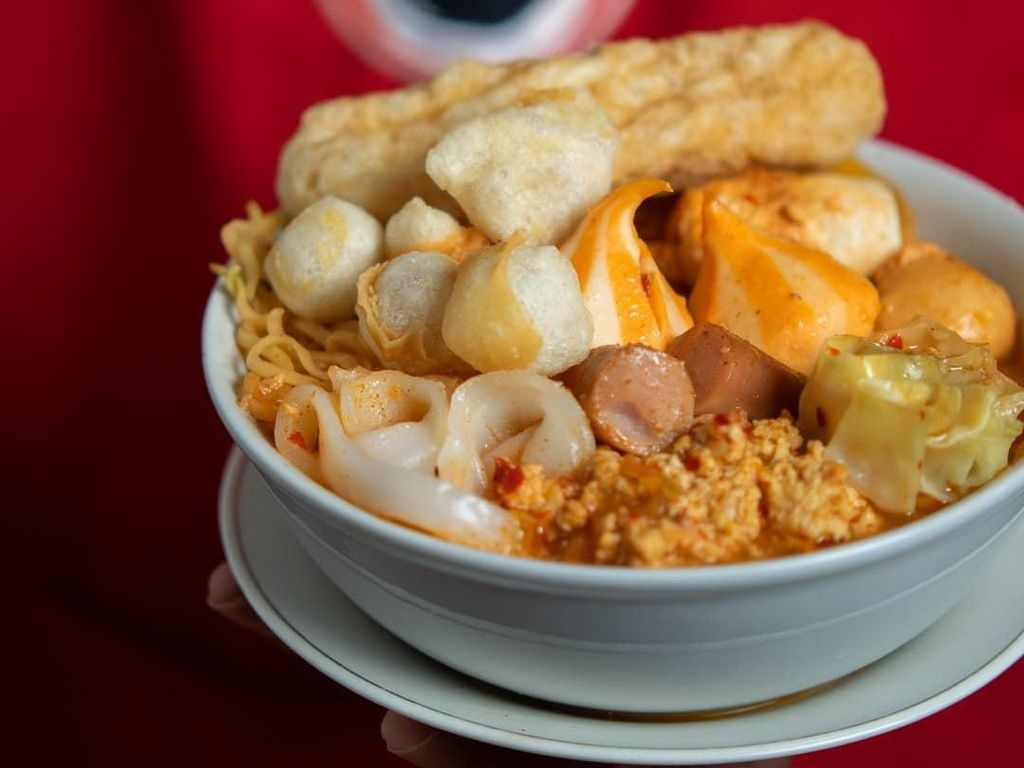seblak: (229, 22, 1020, 570)
